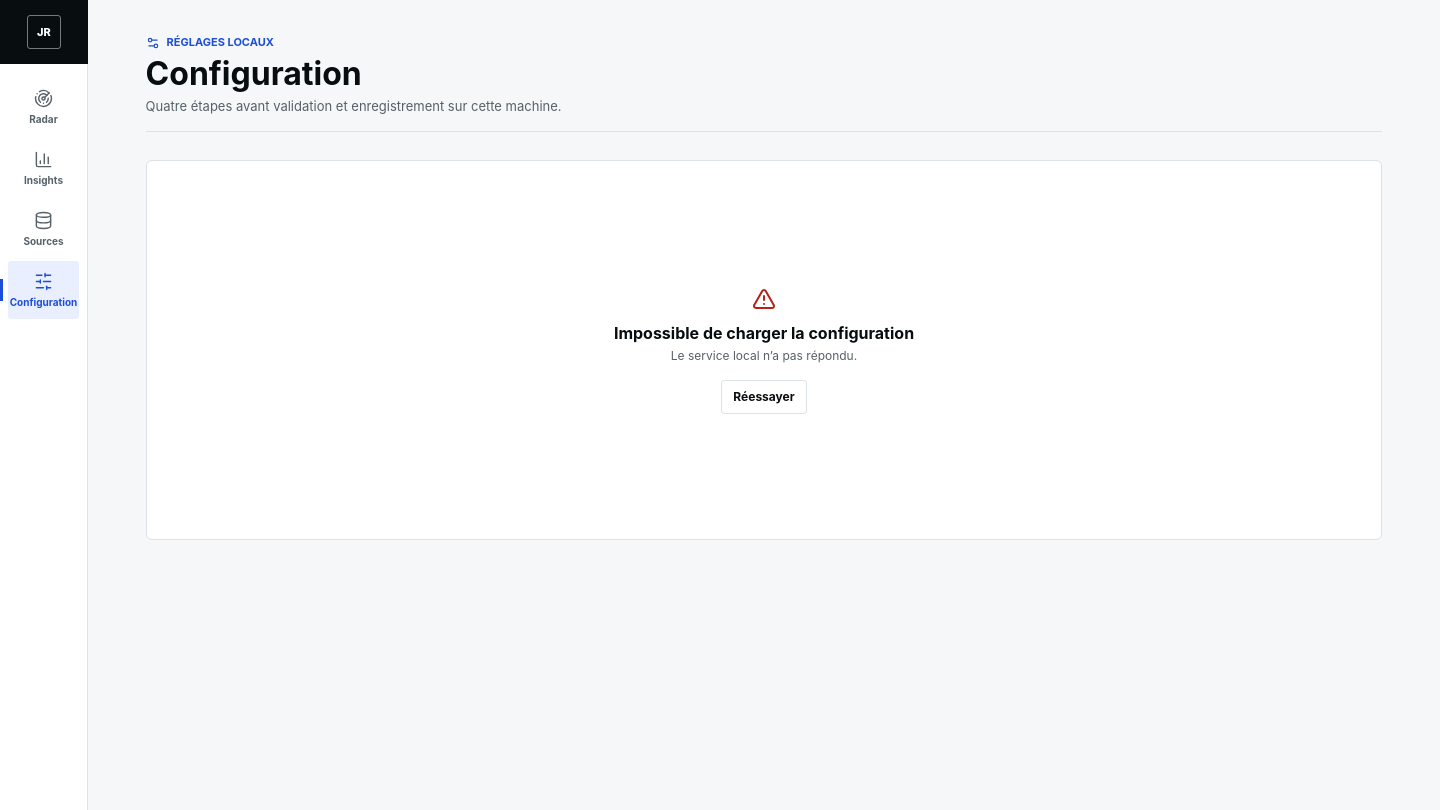
Test: ConfigurationPage › rend les états de chargement et d'erreur récupérable
This screenshot has width=1440, height=810.
Expected: the message named "chargement de la configuration" is shown, [146,160,1382,540]
Expected: the message shows "Impossible de charger", [614,322,914,342]
Click the button "Réessayer" at (764, 396), box [721,380,807,414]
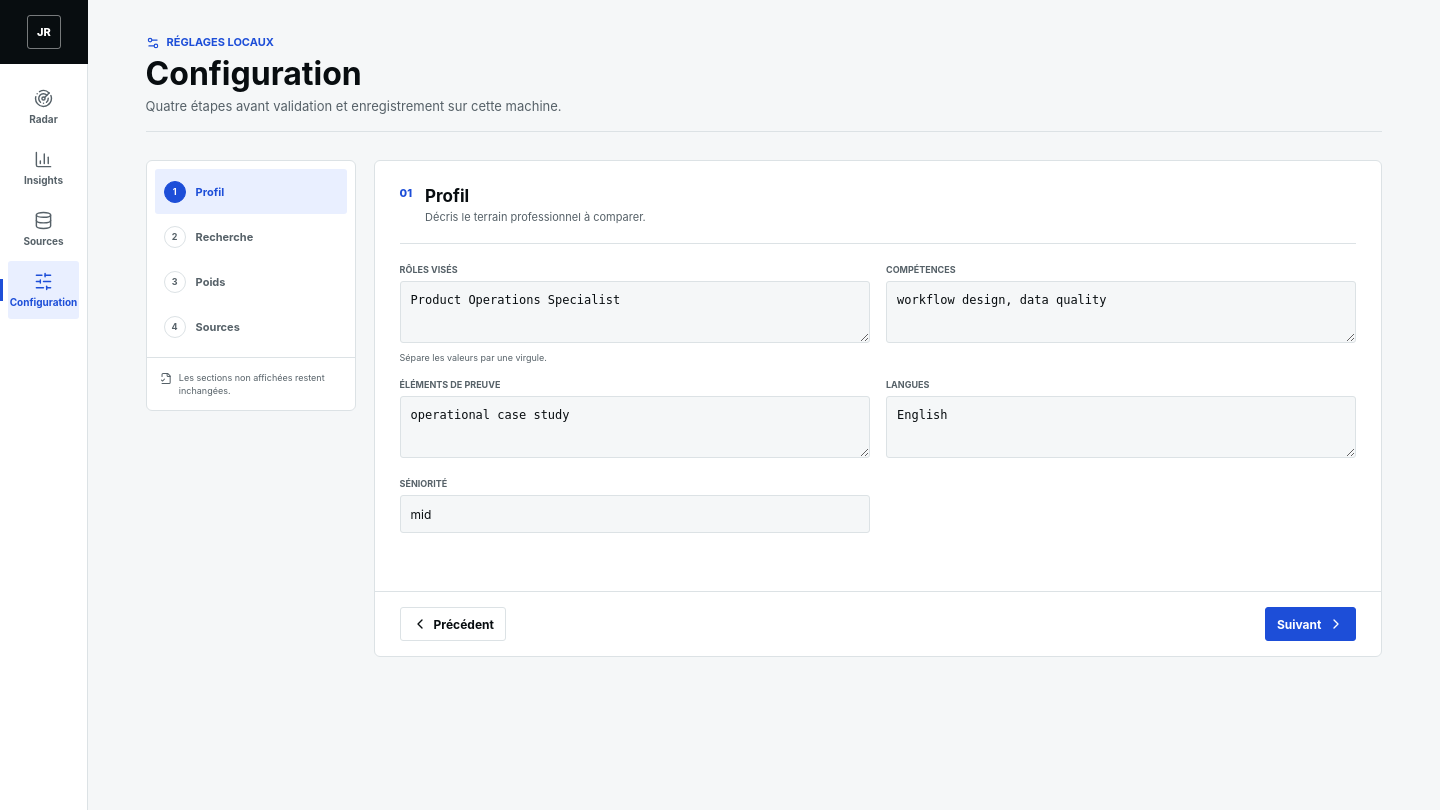
Now the heading "Profil" is shown, box [425,186,469,206]
